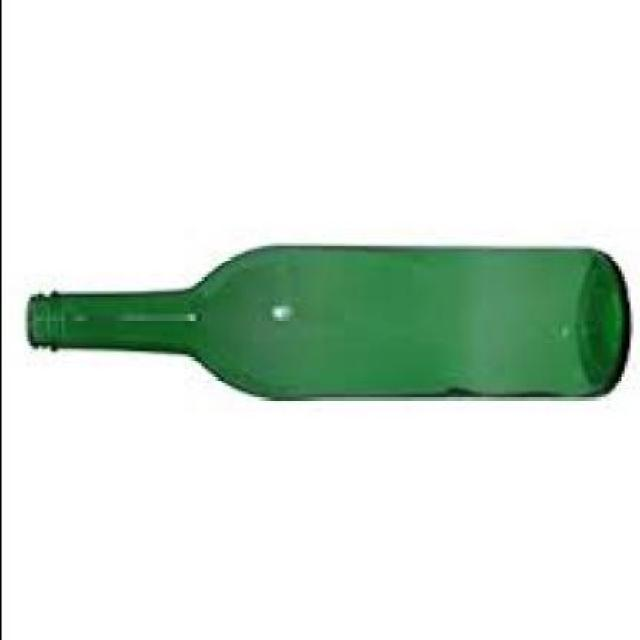glass: (23, 249, 626, 403)
